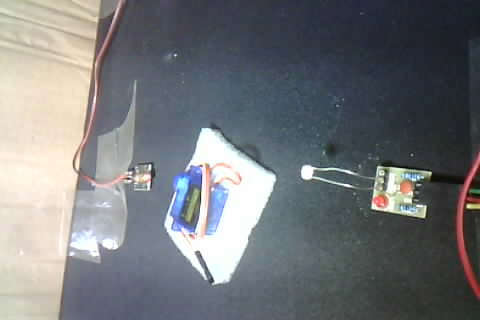motor: (157, 119, 261, 267)
